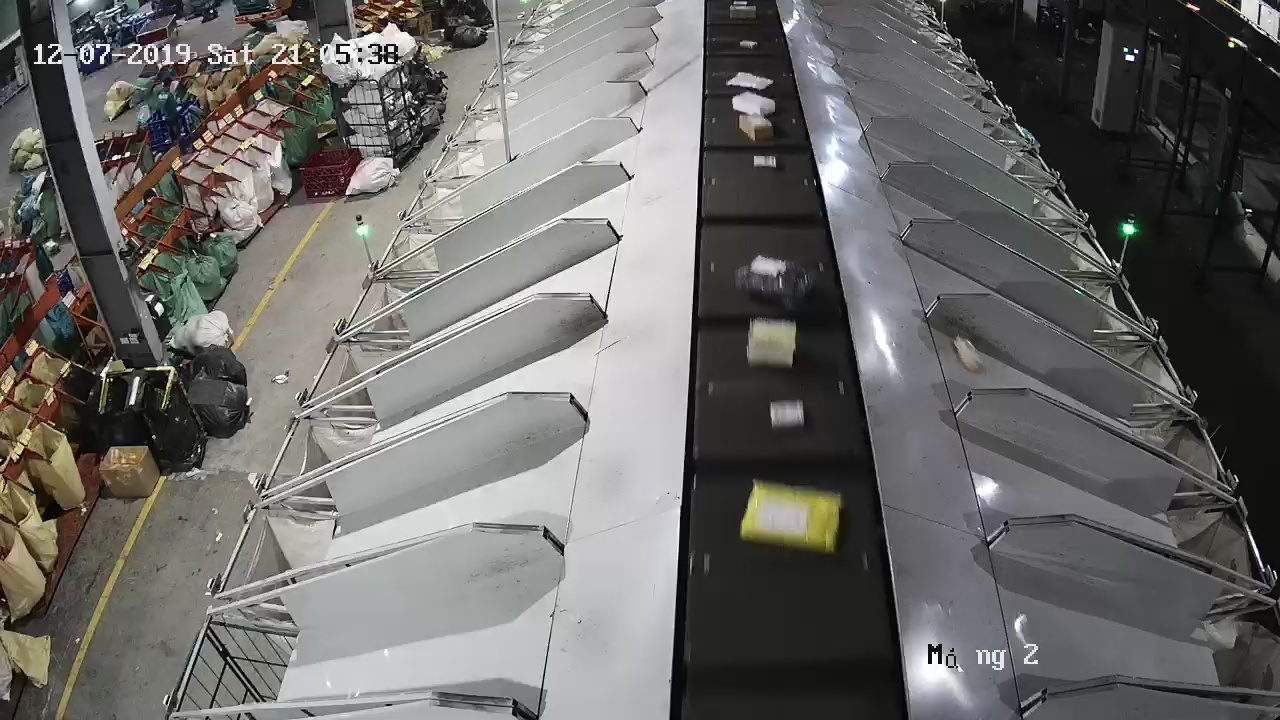parcel: (952, 334, 982, 372)
